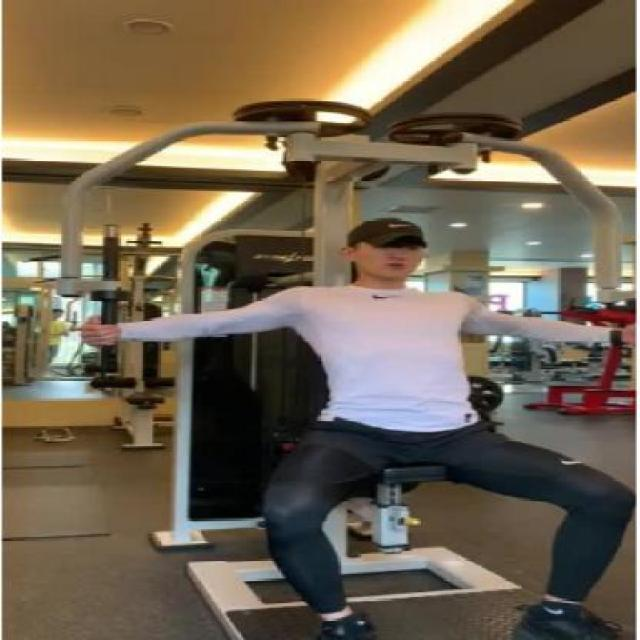chest fly machine: (41, 89, 640, 640)
